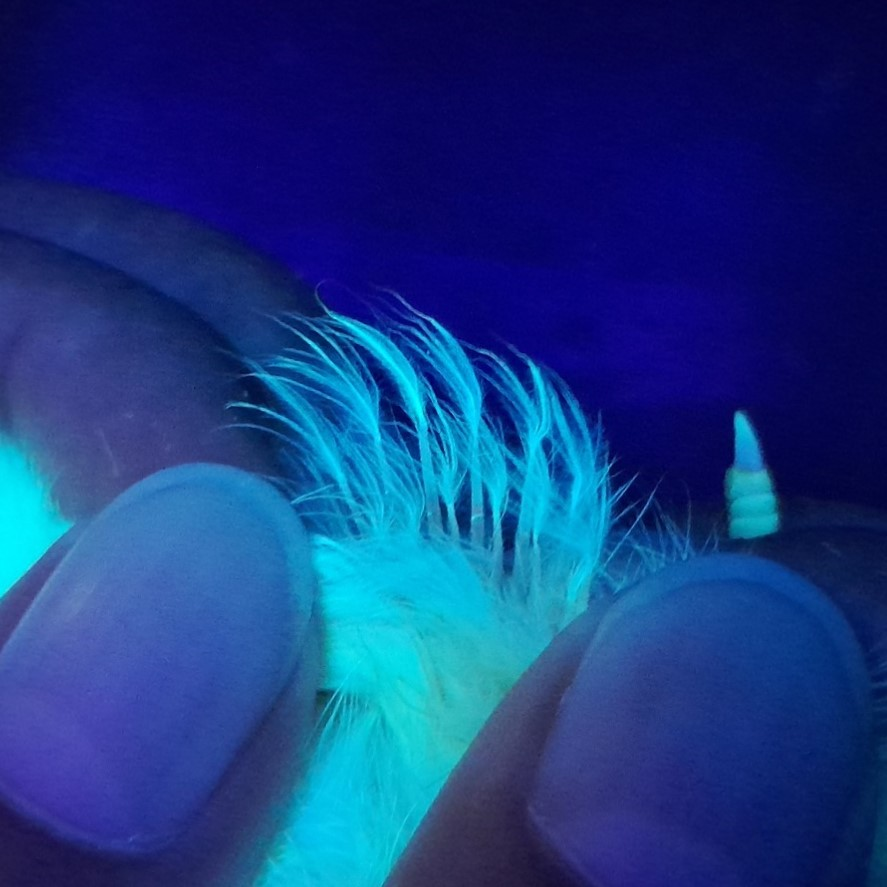male: (328, 403, 602, 638)
